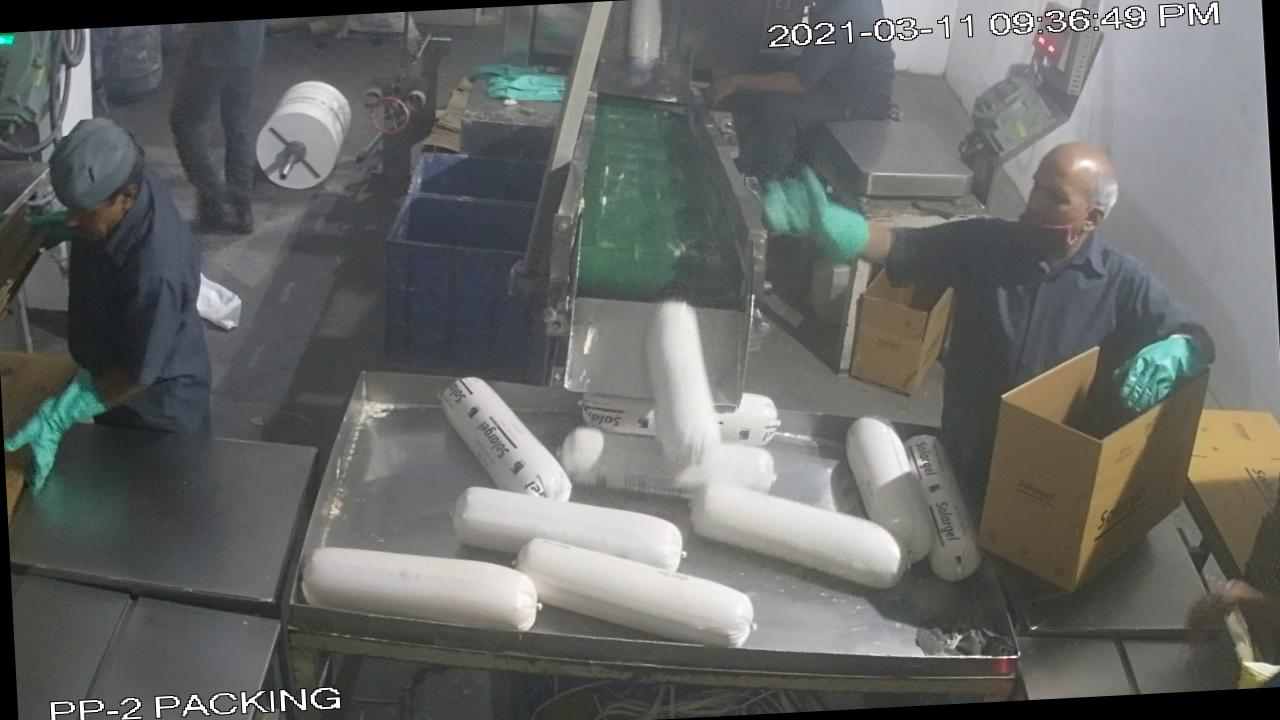Gloves: (1102, 312, 1244, 428), (764, 165, 872, 288)
No-gloves: (686, 46, 822, 107)
